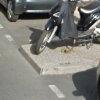Motorcycle: (31, 0, 100, 58)
